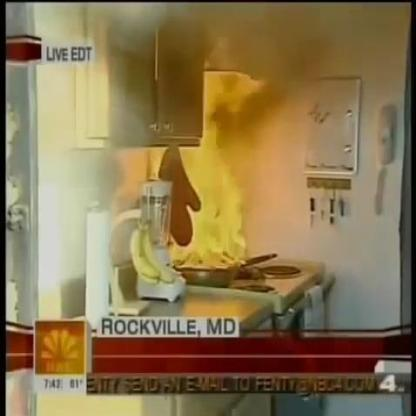fire: (153, 64, 259, 272)
